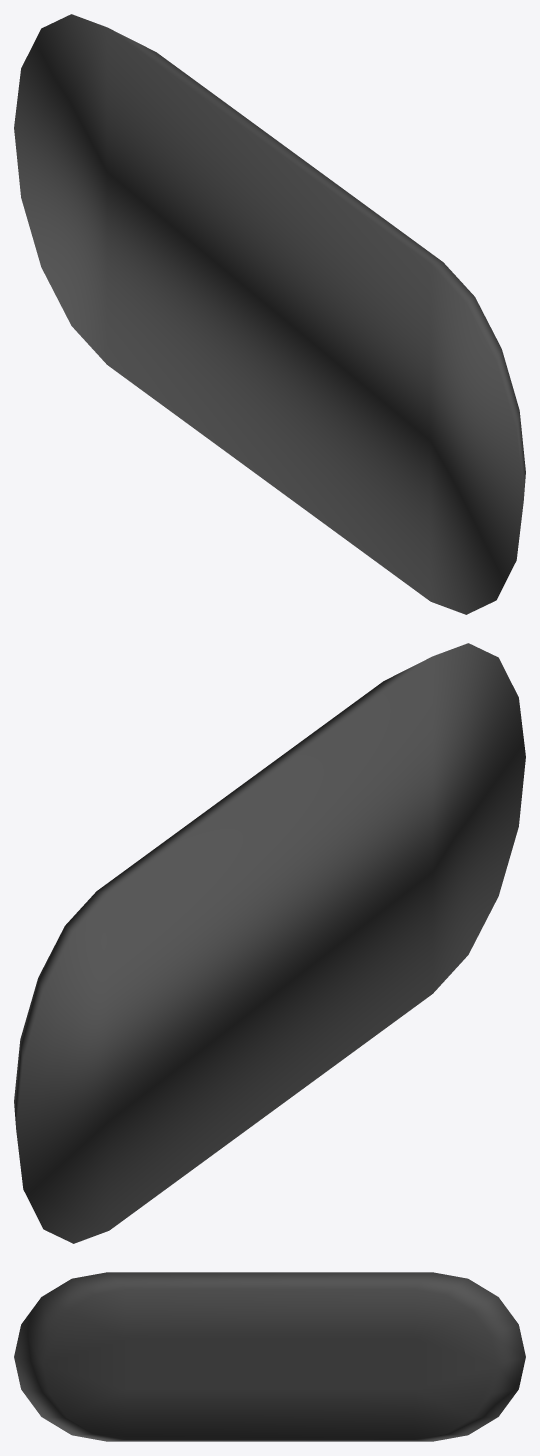
Rendered from Stylus_Grip_R.obj.
3 renders of one model, top to bottom at view 1: azimuth 30°, elevation 25°; view 2: azimuth 150°, elevation 25°; view 3: azimuth 270°, elevation 25°, orthographic. The views are drawn at different scales.
Visible parts, largest first — view 1: Stylus_Grip_R_Grip; view 2: Stylus_Grip_R_Grip; view 3: Stylus_Grip_R_Grip.
Boxes of the visible parts, bbox=[...] form: Stylus_Grip_R_Grip: bbox=[14, 14, 525, 614]; Stylus_Grip_R_Grip: bbox=[14, 643, 525, 1243]; Stylus_Grip_R_Grip: bbox=[14, 1272, 525, 1441].
Size of the model in its own units: 0.00101 by 0.0105 by 0.0288.
1 material, 1 textured.
